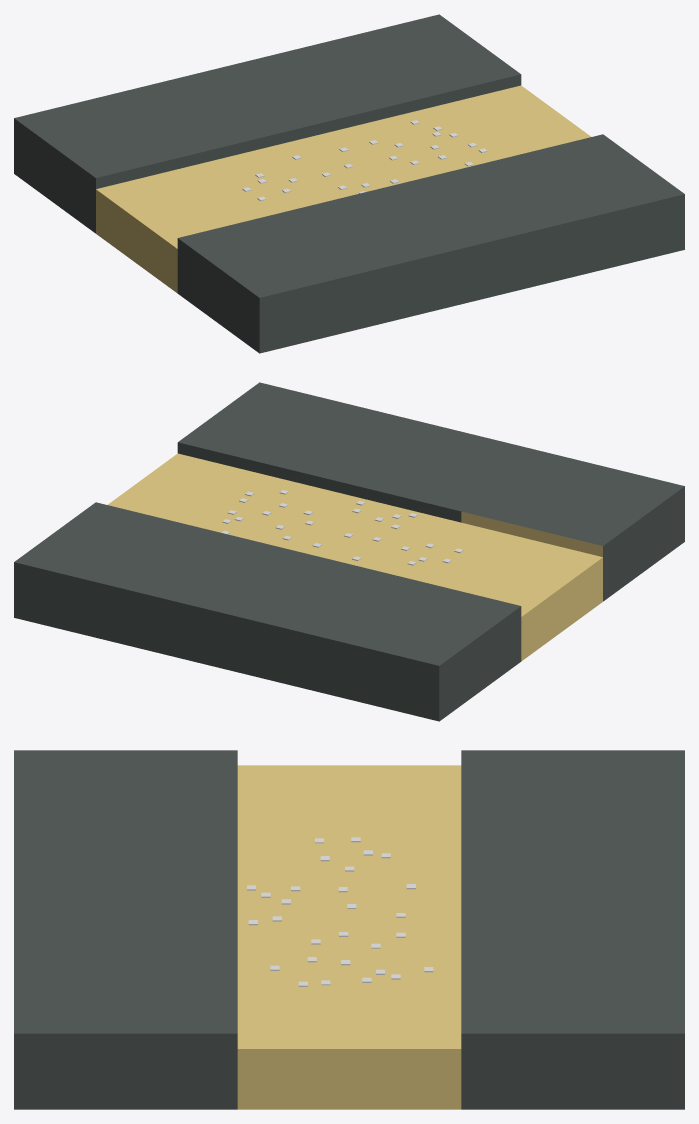
The model's file is Jalan_Straight.fbx.
The picture shows the model from 3 angles, top to bottom: view 1: azimuth 30°, elevation 25°; view 2: azimuth 150°, elevation 25°; view 3: azimuth 270°, elevation 25°; orthographic projection. The views are drawn at different scales.
Parts seen in each view (by area): view 1: Cube; view 2: Cube; view 3: Cube.
Part boxes in pixels (left/top/right/bottom): Cube: left=14, top=14, right=684, bottom=353; Cube: left=14, top=382, right=684, bottom=721; Cube: left=14, top=750, right=684, bottom=1109.
Size of the model in its own units: 200 by 25 by 200.
